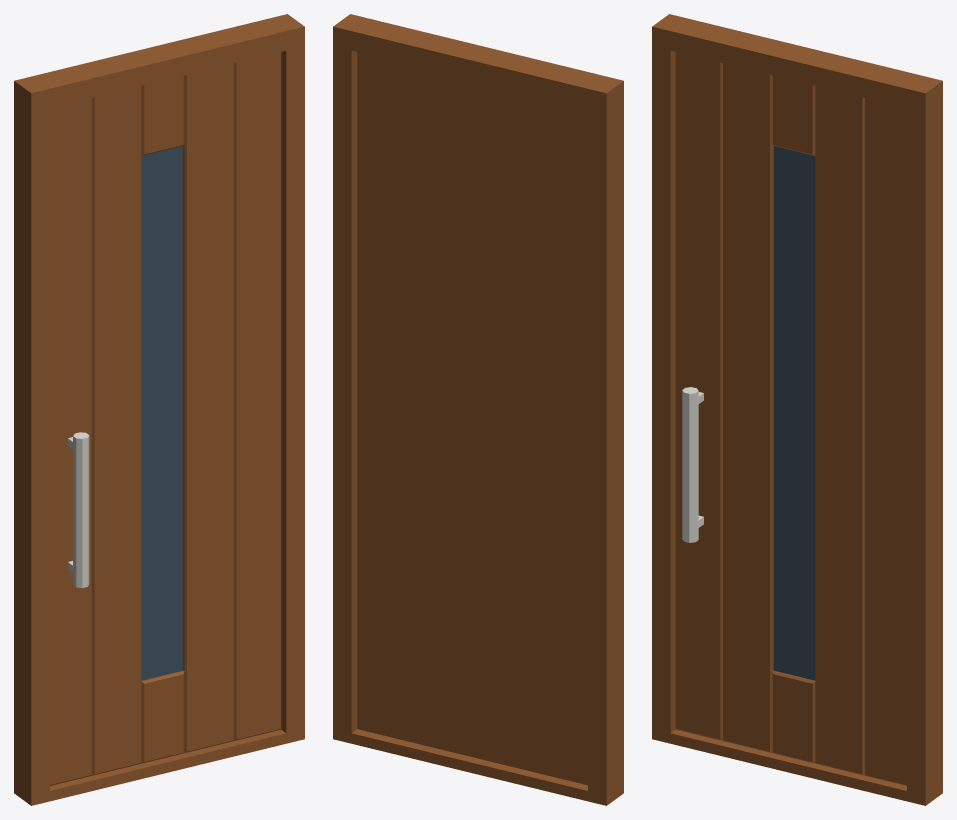
The model's file is SM_Opening_Door08423_WoodBrown_01.gltf.
3 renders of one model, left to right at view 1: azimuth 30°, elevation 25°; view 2: azimuth 150°, elevation 25°; view 3: azimuth 330°, elevation 25°, orthographic.
Parts seen in each view (by area): view 1: SM_Opening_Door08423_WoodBrown_01; view 2: SM_Opening_Door08423_WoodBrown_01; view 3: SM_Opening_Door08423_WoodBrown_01.
Part boxes in pixels (bbox=[...]): SM_Opening_Door08423_WoodBrown_01: bbox=[14, 14, 304, 805]; SM_Opening_Door08423_WoodBrown_01: bbox=[333, 14, 623, 805]; SM_Opening_Door08423_WoodBrown_01: bbox=[652, 14, 942, 805].
Size of the model in its own units: 0.96 by 2.39 by 0.1631.
Materials: 1 (1 with a texture image).
